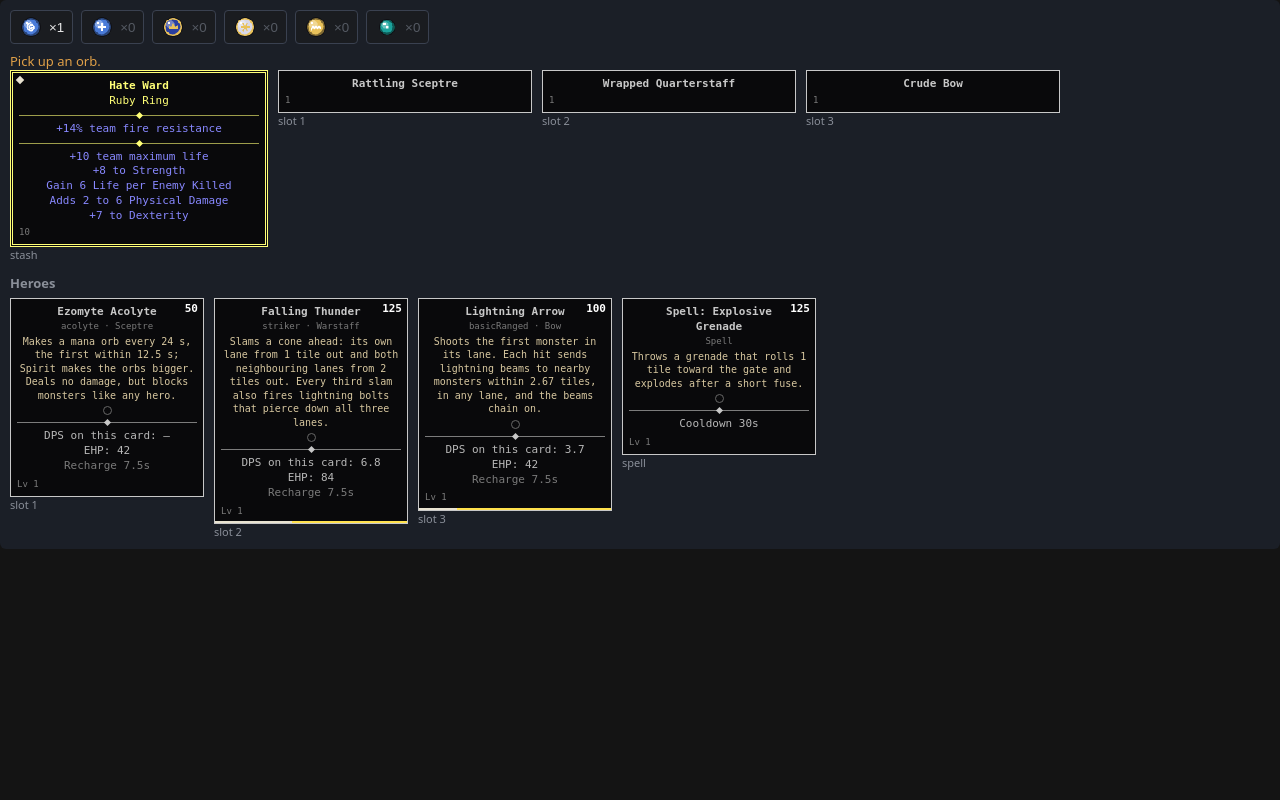
Test: the Craft tab (GDD §15, H §9.2) › an invalid target refuses the drop and changes nothing
Click the button with test id "orb-transmutation" at (42, 27), box top-left (10, 10), bottom-right (73, 44)
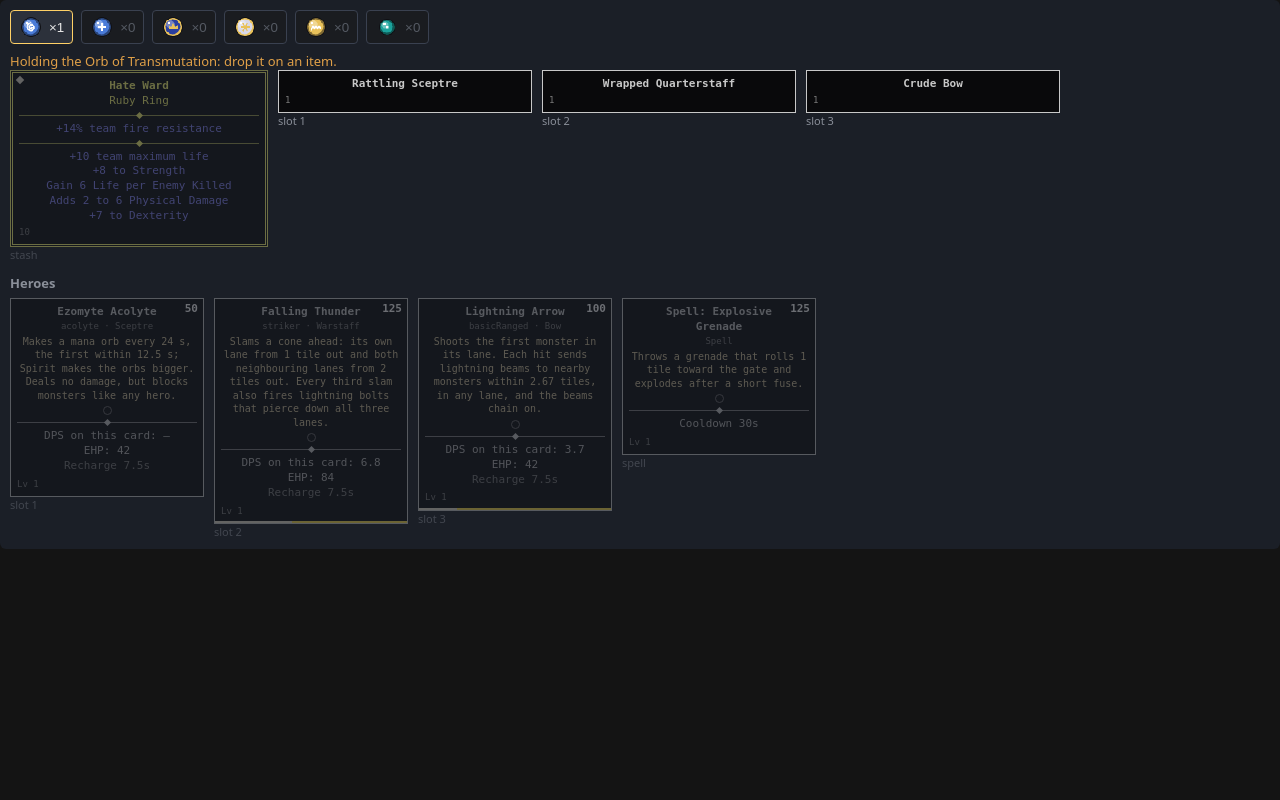
Click the element that starts with "Hate Ward" at (139, 166), box top-left (10, 70), bottom-right (268, 262)
Wait 1000 ms
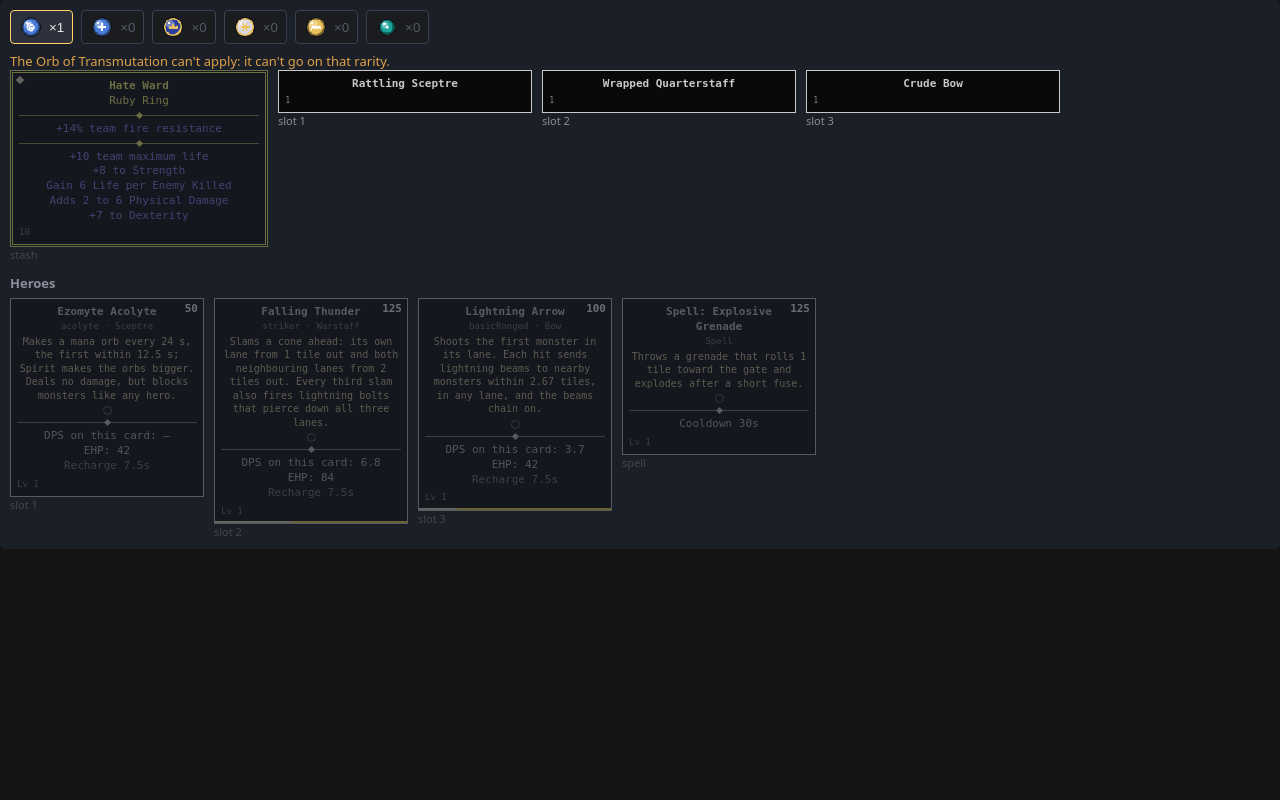
expect the text with test id "craft-status" shows "can't": met, box top-left (10, 52), bottom-right (390, 70)
